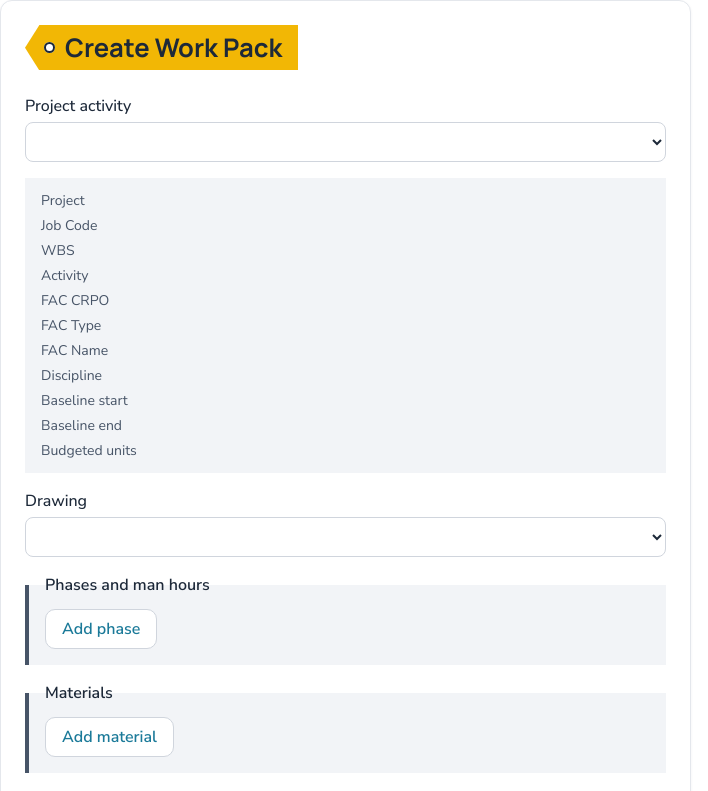
Scenario: CreateWorkPack › BPA6_contextPanelShowsActivityReadOnly
This screenshot has width=708, height=791.
Select "A-2201 Synthetic piping module M-01" in the dropdown labelled "Project activity": x=346, y=142 [25,122,666,162]
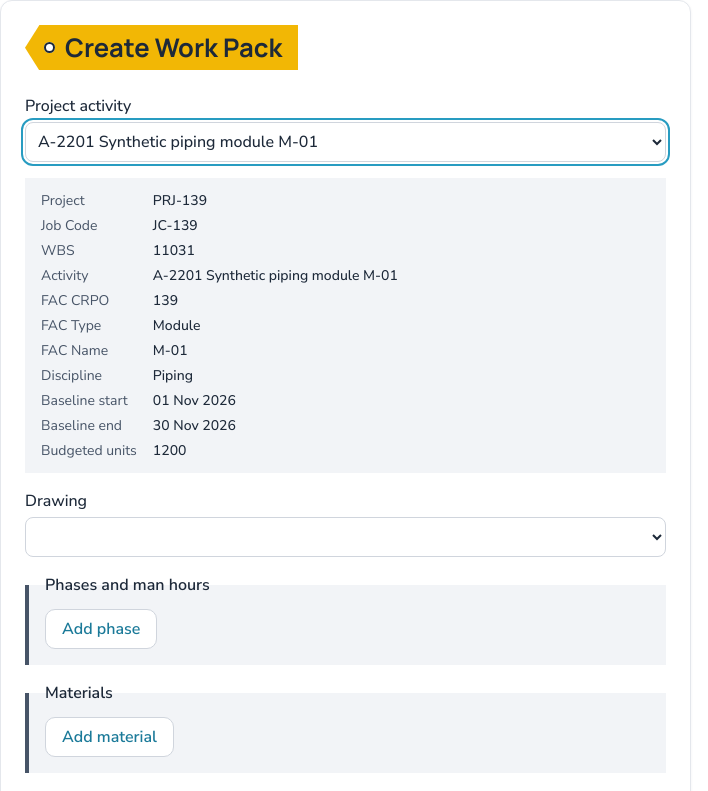
Result: the text "PRJ-139" is shown at [153,191,207,210]
Result: the text "JC-139" is shown at [153,216,198,235]
Result: the text "Module" is shown at [153,316,200,335]
